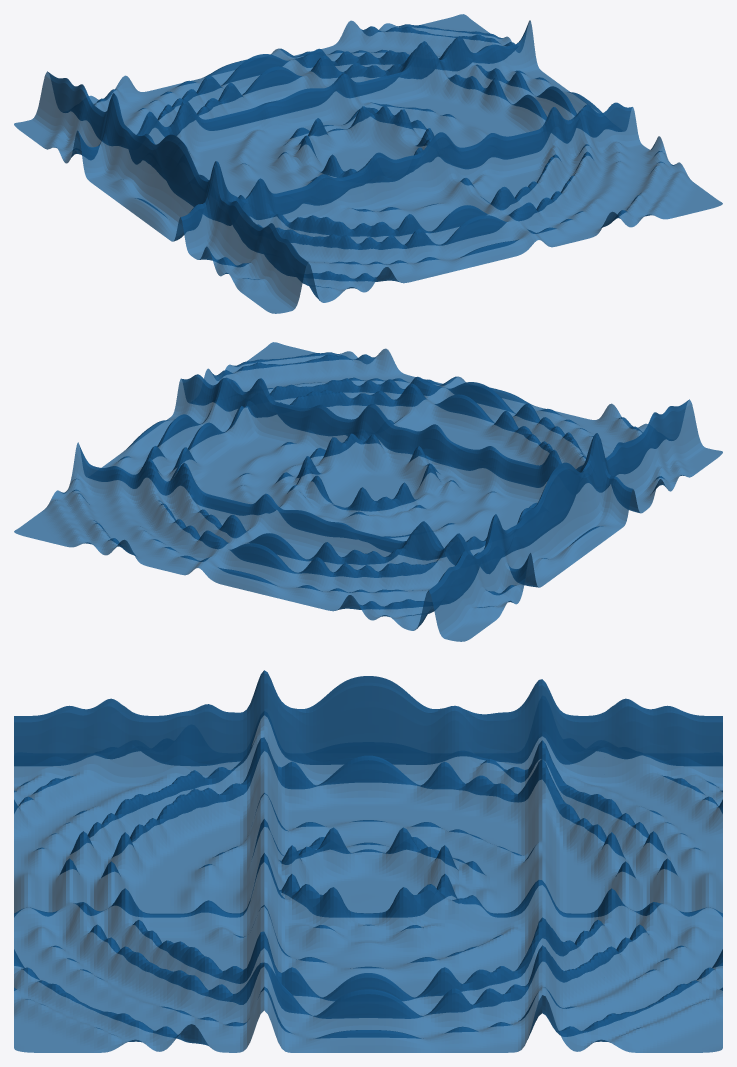
Rendered from OlasdeAgua.fbx.
The picture shows the model from 3 angles, top to bottom: view 1: azimuth 30°, elevation 25°; view 2: azimuth 150°, elevation 25°; view 3: azimuth 270°, elevation 25°; orthographic projection. The views are drawn at different scales.
Visible parts, largest first — view 1: OceanoPotente; view 2: OceanoPotente; view 3: OceanoPotente.
Boxes of the visible parts, x1=… form: OceanoPotente: x1=14, y1=14, x2=722, y2=313; OceanoPotente: x1=14, y1=342, x2=722, y2=641; OceanoPotente: x1=14, y1=670, x2=722, y2=1052.
Bounding box in the file's own units: 10000 × 1660 × 10000.
